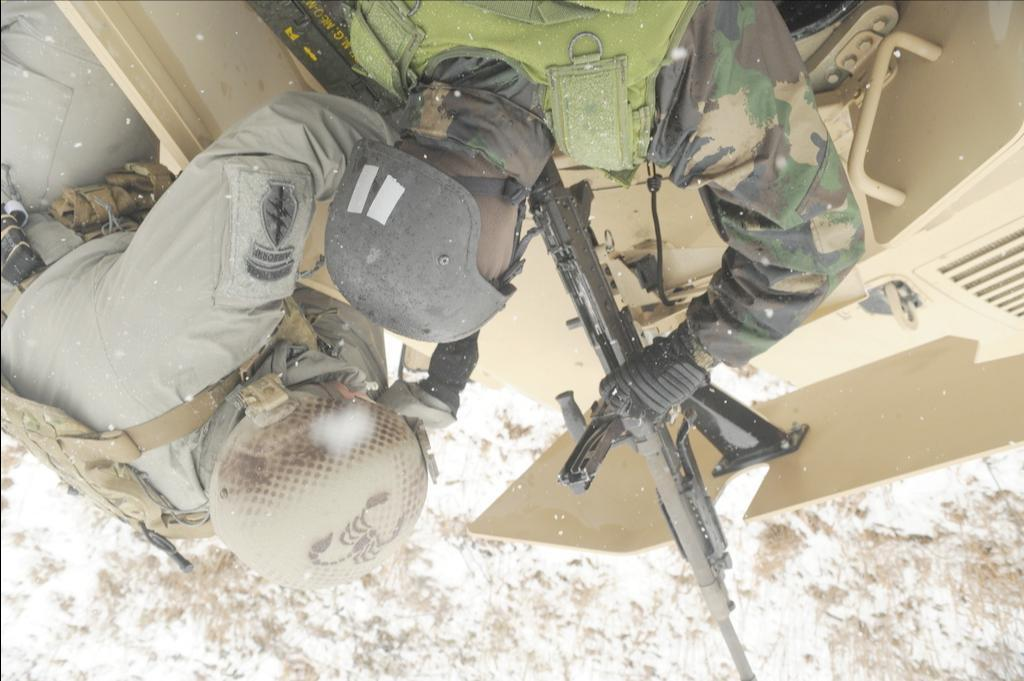gun: (520, 173, 764, 681)
